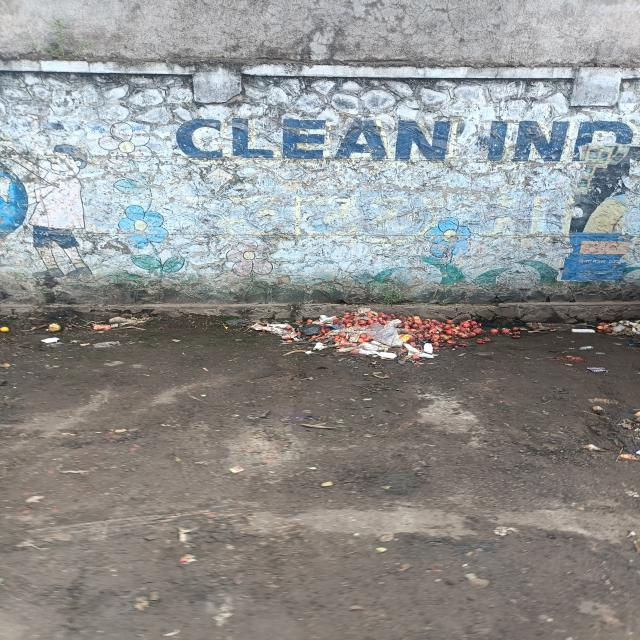garbage: (242, 300, 500, 367)
